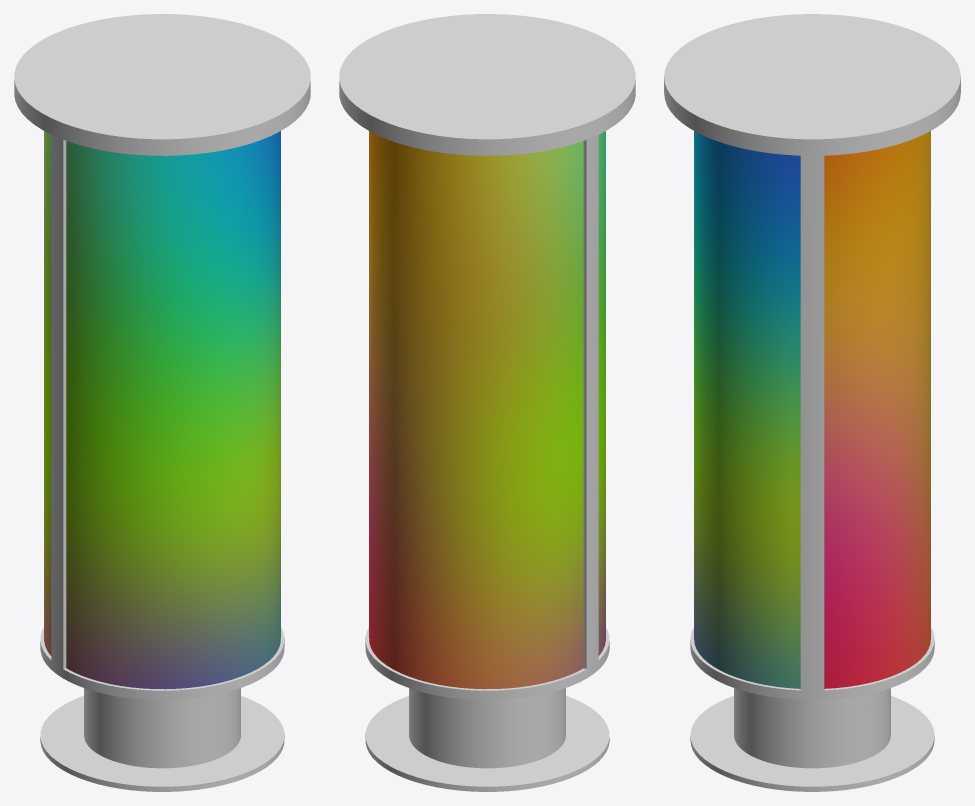
Rendered from advertising_column_01_big.fbx.
3 renders of one model, left to right at view 1: azimuth 30°, elevation 25°; view 2: azimuth 150°, elevation 25°; view 3: azimuth 270°, elevation 25°, orthographic.
Visible parts, largest first — view 1: advertising_column_01_big; view 2: advertising_column_01_big; view 3: advertising_column_01_big.
Part boxes in pixels (x1=…): advertising_column_01_big: x1=14, y1=14, x2=310, y2=791; advertising_column_01_big: x1=339, y1=14, x2=635, y2=791; advertising_column_01_big: x1=664, y1=14, x2=960, y2=791.
Bounding box in the file's own units: 182 × 450 × 182.
